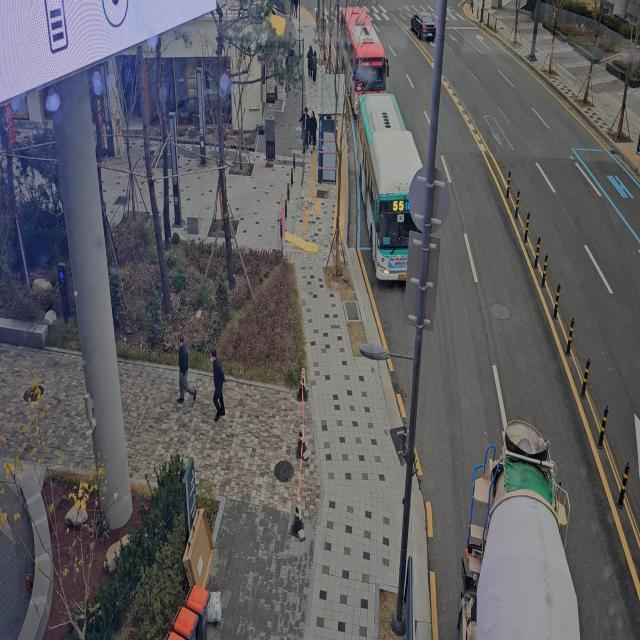Bus: (356, 91, 436, 295), (337, 0, 393, 122)
Car: (404, 3, 442, 55)
Truck: (452, 411, 586, 640)
